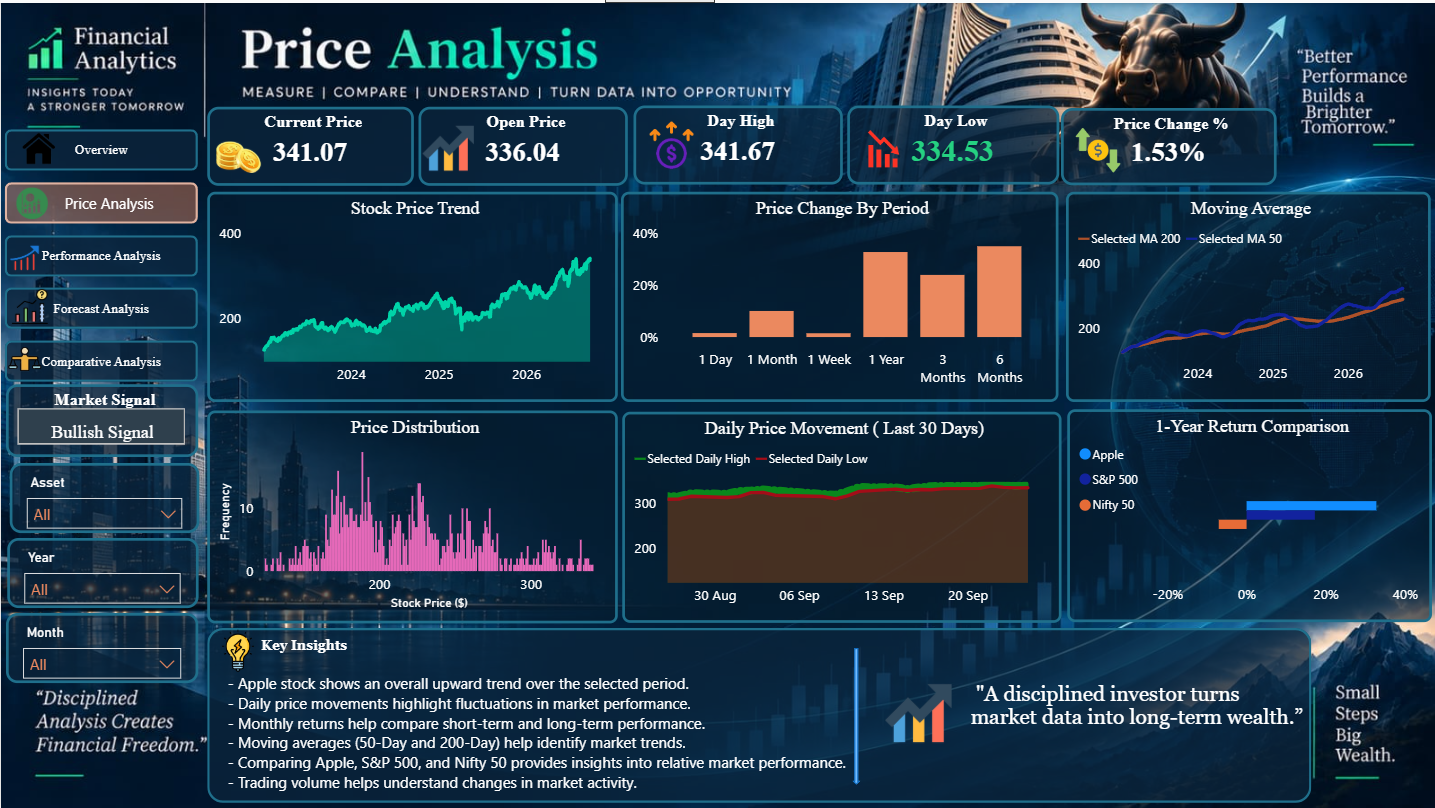

This screenshot's page, from the dashboard's own definition file:
{"tool":"powerbi","page":{"name":"Price Analysis","canvas":[1280,720],"ordinal":1},"visuals":[{"type":"card","title":"     Price Change %","fields":{"Values":["Price Axis.Price Change %"]},"box":[943.7,93.1,192,69],"z":0},{"type":"card","title":"Day Low","fields":{"Values":["Price Axis.Day Low"]},"box":[753.7,91.5,189,70.7],"z":1000},{"type":"card","title":" Current Price ","fields":{"Values":["Asset Selector.Selected Current Price"]},"box":[184.1,92.7,184.1,70.7],"z":2000},{"type":"card","title":"Open Price","fields":{"Values":["Price Axis.Open Price"]},"box":[372,92.7,186.6,70.7],"z":3000},{"type":"card","title":"Day High","fields":{"Values":["Price Axis.Day High"]},"box":[563.4,91.5,186.6,70.7],"z":4000},{"type":"image","box":[186.6,100,50,74.4],"z":5000},{"type":"image","box":[370.4,91.7,55.5,76],"z":6000},{"type":"image","box":[945.8,105,61.5,53.1],"z":7000},{"type":"image","box":[569.4,89.3,54.3,74.8],"z":8000},{"type":"image","box":[760.1,106.2,51.9,48.3],"z":9000},{"type":"pageNavigator","box":[3.7,112,172.2,229.6],"z":10000},{"type":"image","box":[0,188.9,42.6,75],"z":11000},{"type":"image","box":[4.6,243.5,42.6,52.8],"z":12000},{"type":"image","box":[9.3,143.5,38,69.4],"z":13000},{"type":"image","box":[4.6,92.6,58.3,75],"z":14000},{"type":"image","box":[0,279.6,42.6,75],"z":15000},{"type":"clusteredColumnChart","title":"Price Change By Period","fields":{"Category":["Price Periods.Period"],"Y":["Price Axis.Price Change by Period %"]},"box":[552.5,167.7,389.7,187],"z":16000},{"type":"clusteredBarChart","title":"1-Year Return Comparison","fields":{"Y":["Daily_Data.AAPL 1Y Return %","Daily_Data.SP500 1Y Return %","Daily_Data.NIFTY50 1Y Return %"]},"box":[949.5,361.9,324.5,189.4],"z":17000},{"type":"clusteredColumnChart","title":"Price Distribution","fields":{"Category":["Price Axis.BinStart"],"Y":["Asset Selector.Price Axis Count"]},"box":[183.4,363.1,365.6,189.4],"z":18000},{"type":"shape","box":[183.4,556.2,983.2,155.6],"z":19000},{"type":"textbox","box":[196.6,556.2,589.9,155.6],"z":20000},{"type":"image","box":[783,593.6,68.8,78.4],"z":21000},{"type":"shape","box":[757.6,574.3,7.2,121.9],"z":22000},{"type":"textbox","box":[836.1,599.6,340.2,79.6],"z":23000},{"type":"image","box":[187,553.8,48.3,47.1],"z":24000},{"type":"slicer","title":" Current Price ","fields":{"Values":["Daily_Data.Year"]},"box":[6,476.5,170.1,62.7],"z":25000},{"type":"slicer","title":" Current Price ","fields":{"Values":["Daily_Data.Month"]},"box":[4.8,542.9,171.3,62.7],"z":26000},{"type":"slicer","title":" Current Price ","fields":{"Values":["Asset Selector.Asset"]},"box":[7.2,410.2,168.9,62.7],"z":27000},{"type":"areaChart","title":"Stock Price Trend","fields":{"Category":["Daily_Data.Date.Variation.Date Hierarchy.Year","Daily_Data.Date.Variation.Date Hierarchy.Month","Daily_Data.Date.Variation.Date Hierarchy.Day"],"Y":["Asset Selector.Selected Trend Price"]},"box":[183.4,167.7,365.6,187],"z":28000},{"type":"lineChart","title":"Daily Price Movement ( Last 30 Days)","fields":{"Category":["Daily_Data.Date"],"Y":["Price Axis.Selected Daily High","Price Axis.Selected Daily Low"]},"box":[553.8,364.3,390.9,188.2],"z":29000},{"type":"lineChart","title":"Moving Average","fields":{"Category":["Daily_Data.Date"],"Y":["Price Axis.Selected MA 200","Price Axis.Selected MA 50"]},"box":[948.3,167.7,324.5,187],"z":30000},{"type":"cardVisual","title":"Market Signal","fields":{"Data":["Price Axis.MA Crossover Signal"]},"box":[4.8,339,171.3,65.1],"z":31000}]}

Visuals, with their boxes in screenshot pixels (x1, y1, x2, y2), scaled from the page's 1280x720 canvas onto the 1435x808 screenshot:
"     Price Change %" card: BBox(1058, 104, 1273, 182)
"Day Low" card: BBox(845, 103, 1057, 182)
" Current Price " card: BBox(206, 104, 413, 183)
"Open Price" card: BBox(417, 104, 626, 183)
"Day High" card: BBox(632, 103, 841, 182)
image: BBox(209, 112, 265, 196)
image: BBox(415, 103, 477, 188)
image: BBox(1060, 118, 1129, 177)
image: BBox(638, 100, 699, 184)
image: BBox(852, 119, 910, 173)
pageNavigator: BBox(4, 126, 197, 383)
image: BBox(0, 212, 48, 296)
image: BBox(5, 273, 53, 333)
image: BBox(10, 161, 53, 239)
image: BBox(5, 104, 71, 188)
image: BBox(0, 314, 48, 398)
"Price Change By Period" clusteredColumnChart: BBox(619, 188, 1056, 398)
"1-Year Return Comparison" clusteredBarChart: BBox(1064, 406, 1428, 619)
"Price Distribution" clusteredColumnChart: BBox(206, 407, 615, 620)
shape: BBox(206, 624, 1308, 799)
textbox: BBox(220, 624, 882, 799)
image: BBox(878, 666, 955, 754)
shape: BBox(849, 644, 857, 781)
textbox: BBox(937, 673, 1319, 762)
image: BBox(210, 621, 264, 674)
" Current Price " slicer: BBox(7, 535, 197, 605)
" Current Price " slicer: BBox(5, 609, 197, 680)
" Current Price " slicer: BBox(8, 460, 197, 531)
"Stock Price Trend" areaChart: BBox(206, 188, 615, 398)
"Daily Price Movement ( Last 30 Days)" lineChart: BBox(621, 409, 1059, 620)
"Moving Average" lineChart: BBox(1063, 188, 1427, 398)
"Market Signal" cardVisual: BBox(5, 380, 197, 453)
